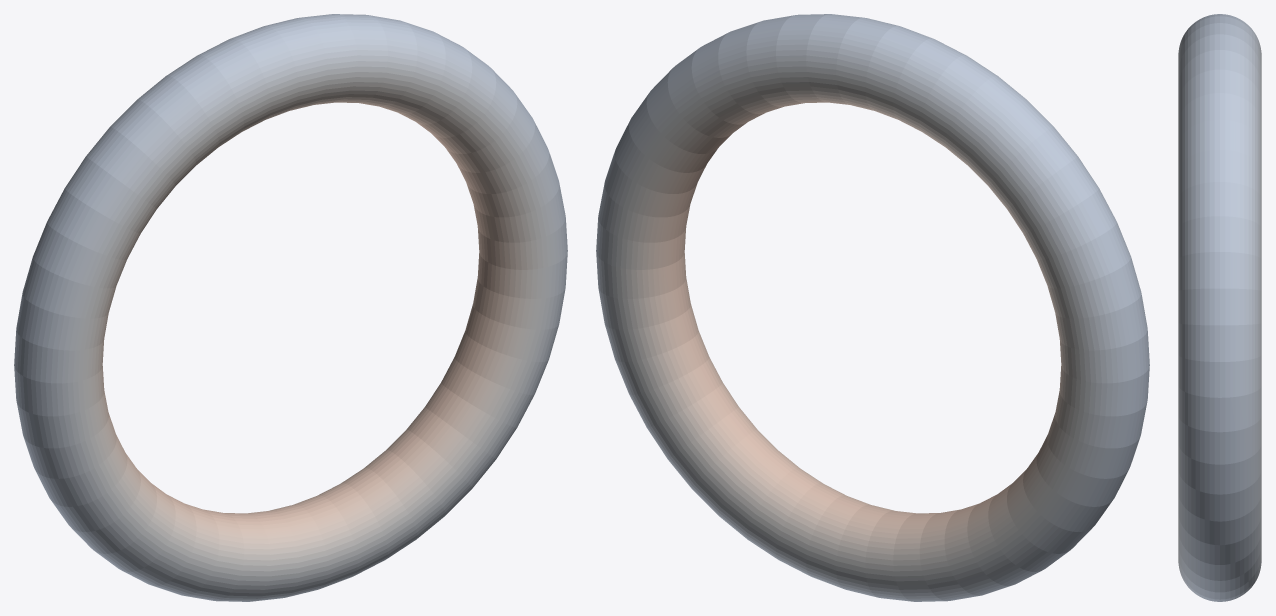
The picture shows the model from 3 angles, left to right: view 1: azimuth 30°, elevation 25°; view 2: azimuth 150°, elevation 25°; view 3: azimuth 270°, elevation 25°; orthographic projection. The views are drawn at different scales.
Parts seen in each view (by area): view 1: world; view 2: world; view 3: world.
Part boxes in pixels (x1,y1,x2,y2): world: (14, 14, 567, 601); world: (596, 14, 1149, 601); world: (1178, 14, 1261, 601).
Size of the model in its own units: 31.07 by 31.01 by 4.39.
